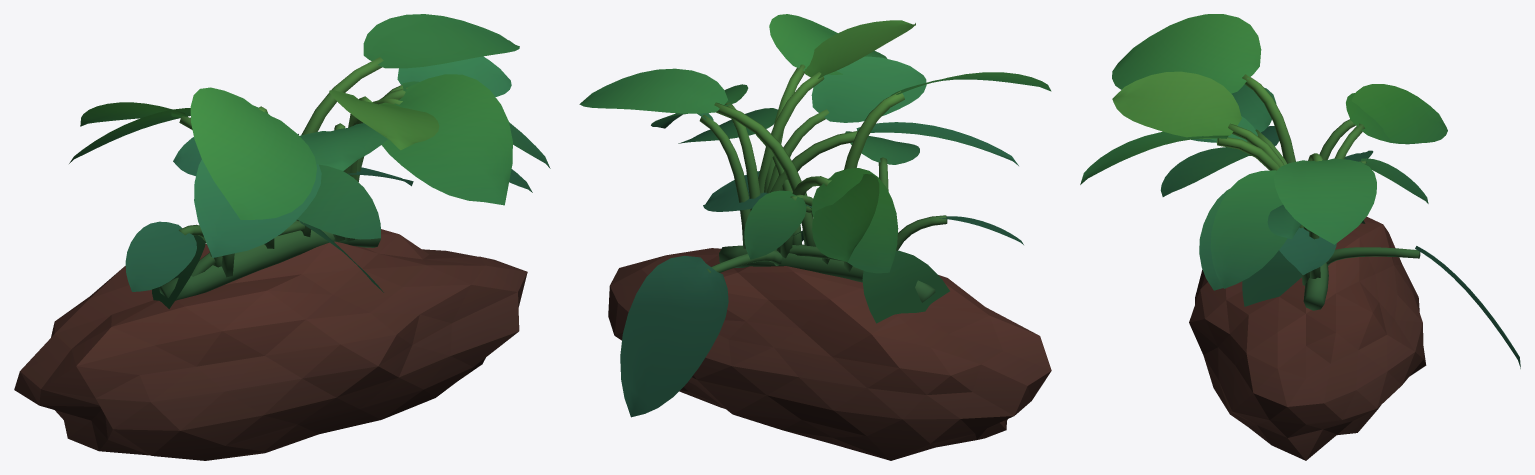
Rendered from AnubiasPlant.glb.
3 renders of one model, left to right at view 1: azimuth 30°, elevation 25°; view 2: azimuth 150°, elevation 25°; view 3: azimuth 270°, elevation 25°, orthographic. The views are drawn at different scales.
Visible parts, largest first — view 1: LavaRock, Anubias_Leaves, Anubias_Stems; view 2: LavaRock, Anubias_Leaves, Anubias_Stems; view 3: Anubias_Leaves, LavaRock, Anubias_Stems.
Boxes of the visible parts, box(x1,y1,x2,y2) form: LavaRock: box(14, 229, 527, 460); Anubias_Leaves: box(69, 14, 550, 308); Anubias_Stems: box(159, 57, 407, 300); LavaRock: box(608, 248, 1051, 460); Anubias_Leaves: box(579, 14, 1051, 417); Anubias_Stems: box(699, 64, 947, 302); Anubias_Leaves: box(1080, 14, 1520, 368); LavaRock: box(1189, 216, 1426, 460); Anubias_Stems: box(1217, 74, 1420, 310).
Size of the model in its own units: 2.29 by 1.59 by 2.06.
4 materials, 4 textured.
